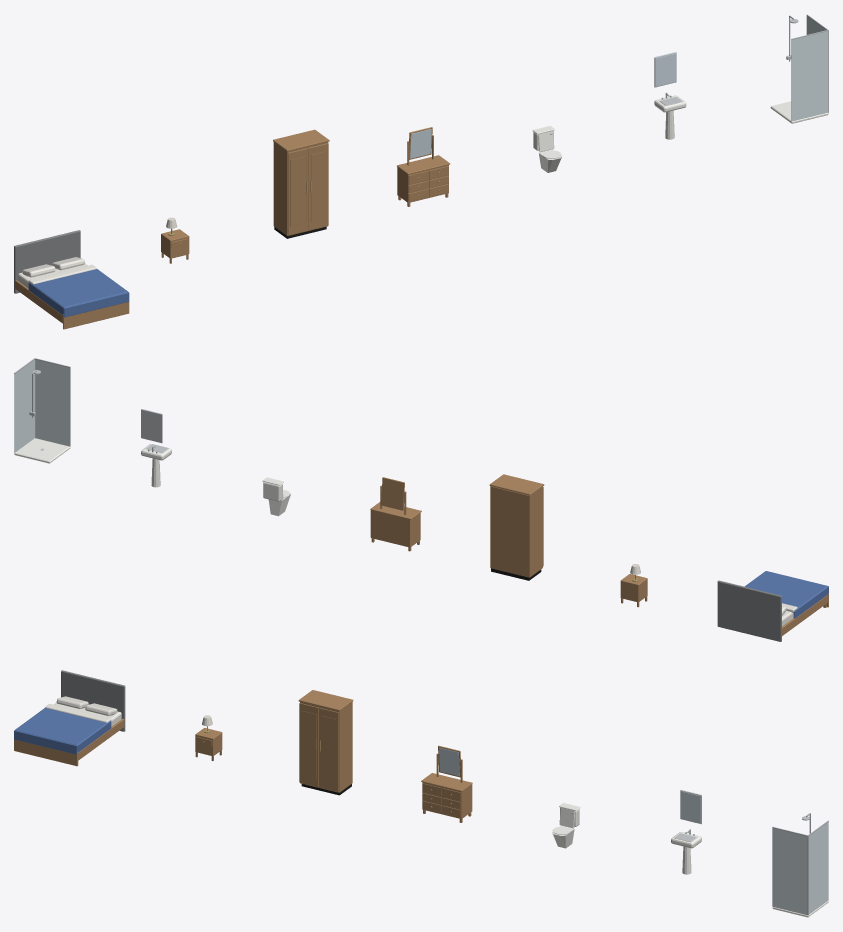
Rendered from Bedroom.glb.
The picture shows the model from 3 angles, top to bottom: view 1: azimuth 30°, elevation 25°; view 2: azimuth 150°, elevation 25°; view 3: azimuth 330°, elevation 25°; orthographic projection. The views are drawn at different scales.
Parts seen in each view (by area): view 1: Bed, Wardrobe, Shower, Dresser, Basin, Toilet, Bedside; view 2: Bed, Shower, Wardrobe, Dresser, Basin, Bedside, Toilet; view 3: Bed, Wardrobe, Shower, Dresser, Basin, Toilet, Bedside.
Boxes of the visible parts, <box> form: Bed: <box>14,230,129,329</box>; Wardrobe: <box>273,129,329,238</box>; Shower: <box>770,14,828,123</box>; Dresser: <box>397,127,450,206</box>; Basin: <box>654,52,686,139</box>; Toilet: <box>532,126,561,172</box>; Bedside: <box>161,217,189,263</box>; Bed: <box>717,571,828,641</box>; Shower: <box>14,358,70,463</box>; Wardrobe: <box>489,474,544,580</box>; Dresser: <box>370,477,421,551</box>; Basin: <box>141,409,171,487</box>; Bedside: <box>620,564,647,607</box>; Toilet: <box>262,477,290,516</box>; Bed: <box>14,670,125,766</box>; Wardrobe: <box>298,690,353,795</box>; Shower: <box>772,813,828,917</box>; Dresser: <box>421,745,472,822</box>; Basin: <box>671,790,701,874</box>; Toilet: <box>552,803,580,848</box>; Bedside: <box>195,715,222,760</box>.
Bounding box in the file's own units: 96.26 × 10.45 × 10.58.
